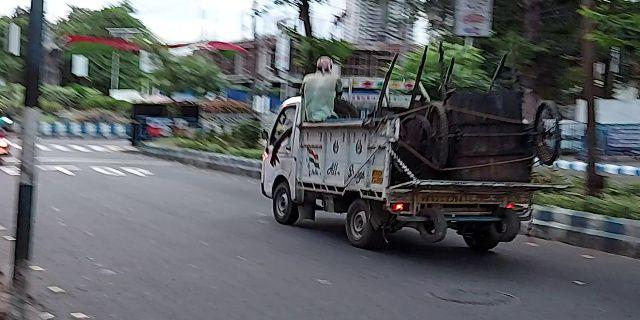Minitruck: (264, 88, 551, 235)
